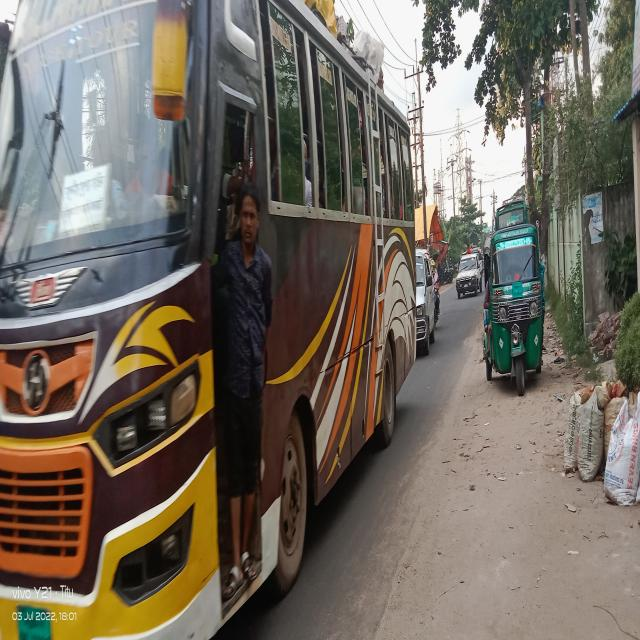bus: (1, 1, 424, 640)
